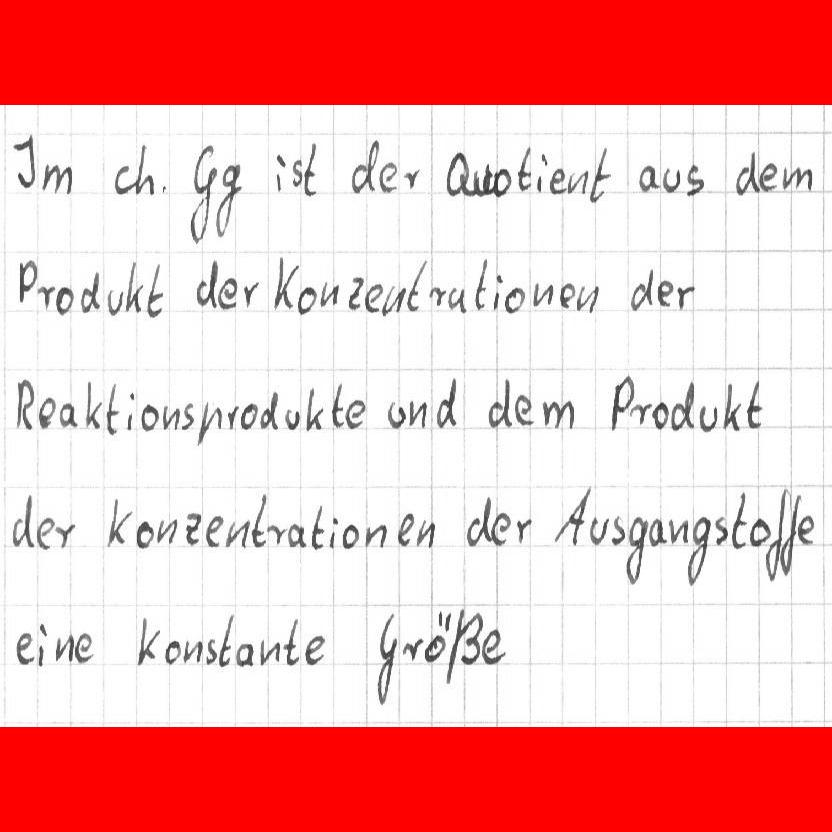Char: (184, 142, 217, 247), (370, 608, 398, 708), (445, 608, 482, 683), (215, 161, 247, 242), (551, 487, 590, 546), (764, 488, 787, 586), (588, 145, 621, 204), (685, 514, 711, 588), (623, 513, 648, 588), (781, 492, 801, 580), (349, 136, 379, 194), (269, 253, 299, 311), (8, 133, 38, 190), (421, 609, 451, 665), (609, 372, 636, 433), (464, 494, 494, 547), (135, 612, 162, 668), (8, 492, 34, 549), (730, 149, 761, 196), (106, 496, 133, 548), (404, 256, 427, 315), (486, 377, 512, 429), (443, 149, 470, 199), (433, 376, 459, 427), (194, 257, 219, 310), (728, 490, 750, 550), (196, 399, 224, 446), (303, 136, 324, 198), (303, 384, 329, 434), (132, 141, 155, 196), (541, 398, 576, 434), (13, 375, 35, 432), (13, 254, 38, 304), (629, 265, 655, 313), (670, 381, 696, 429), (144, 261, 165, 319), (39, 162, 76, 194), (216, 611, 236, 669), (279, 615, 301, 667), (721, 379, 743, 430), (124, 259, 144, 314), (481, 624, 507, 666), (79, 269, 103, 314), (781, 163, 818, 191), (513, 144, 534, 192), (83, 379, 102, 431), (258, 390, 281, 431), (252, 492, 268, 550), (473, 255, 489, 312), (73, 629, 95, 670), (225, 517, 252, 550), (683, 162, 707, 199), (512, 393, 537, 428), (380, 284, 407, 316), (51, 517, 77, 550), (13, 629, 35, 668), (106, 379, 121, 436), (308, 503, 326, 550), (747, 378, 762, 434), (302, 632, 326, 667), (182, 509, 203, 548), (375, 162, 400, 194), (489, 509, 510, 546), (566, 167, 591, 198), (400, 633, 425, 664), (471, 162, 493, 197), (203, 512, 225, 547), (636, 161, 660, 193), (346, 274, 366, 312), (343, 397, 366, 430), (587, 513, 610, 546), (111, 159, 132, 195), (296, 283, 318, 317), (407, 397, 429, 431), (233, 639, 257, 670), (53, 633, 76, 665), (331, 383, 346, 432), (648, 397, 669, 432), (796, 513, 817, 548), (573, 279, 595, 312), (131, 519, 156, 548), (364, 520, 389, 549), (748, 517, 773, 546), (531, 277, 555, 307), (547, 163, 568, 197), (240, 278, 261, 312), (490, 165, 513, 196), (696, 403, 719, 434), (557, 278, 579, 310), (139, 401, 161, 433), (666, 515, 690, 544), (363, 281, 384, 314), (217, 276, 238, 309), (259, 636, 280, 669), (385, 400, 408, 430), (629, 400, 652, 430), (514, 515, 537, 545), (397, 511, 415, 549), (317, 278, 339, 309), (647, 514, 667, 548), (533, 152, 549, 194), (36, 395, 55, 430), (757, 162, 779, 192), (424, 282, 448, 309), (445, 285, 468, 313), (36, 515, 54, 550), (415, 519, 436, 549), (711, 513, 730, 546), (177, 400, 197, 431), (272, 150, 286, 194), (287, 520, 308, 549), (662, 166, 682, 196), (37, 281, 57, 311), (157, 516, 177, 546), (656, 275, 674, 308), (490, 272, 506, 309), (55, 283, 74, 314), (105, 286, 124, 317), (58, 400, 79, 428), (611, 514, 628, 548), (266, 520, 289, 545), (124, 389, 137, 433), (675, 282, 694, 312), (503, 286, 525, 311), (161, 403, 181, 430), (182, 637, 202, 664), (401, 164, 420, 192), (340, 522, 360, 548), (163, 638, 182, 665), (37, 618, 47, 668), (241, 402, 258, 431), (289, 157, 304, 188), (202, 635, 218, 664), (327, 514, 339, 551), (284, 407, 302, 431), (225, 403, 240, 429), (157, 180, 170, 197)
